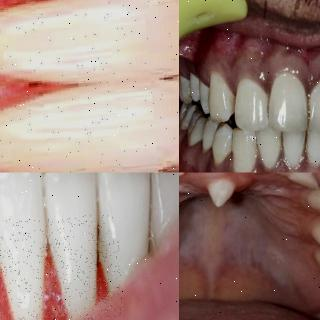Gum Swelling: (0, 235, 106, 320), (202, 53, 320, 100), (252, 146, 320, 172), (183, 143, 234, 172)
cavities: (179, 103, 191, 127)
maligned: (0, 172, 54, 320), (198, 172, 245, 215)
stains: (210, 74, 238, 124), (302, 91, 314, 127), (298, 130, 312, 155), (278, 126, 288, 160), (264, 95, 277, 121)
